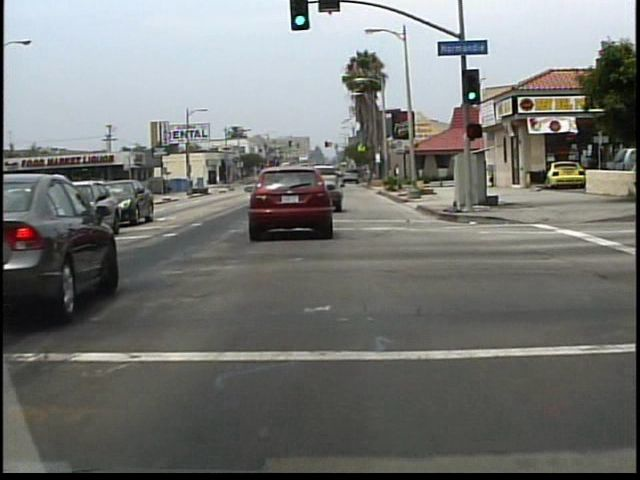person: (583, 150, 600, 194)
